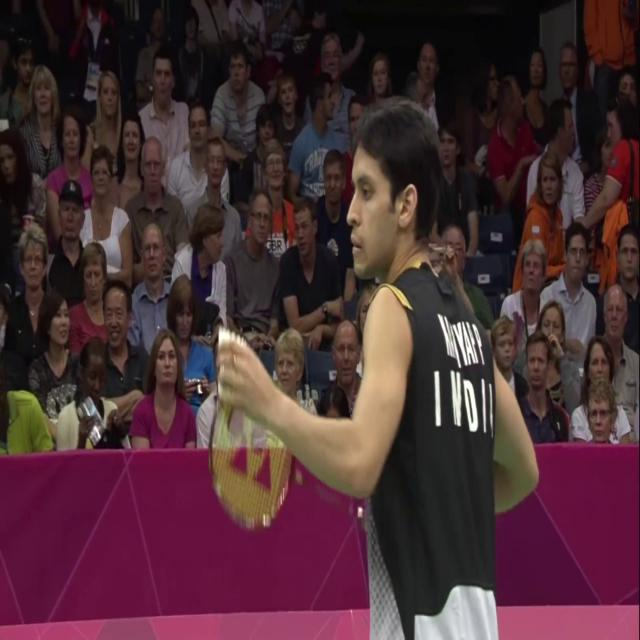Shuttlecock: (204, 316, 253, 410)
